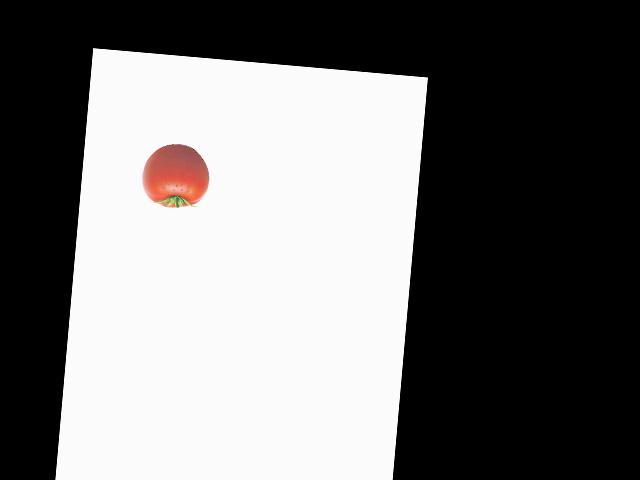tomato: (147, 142, 211, 210)
